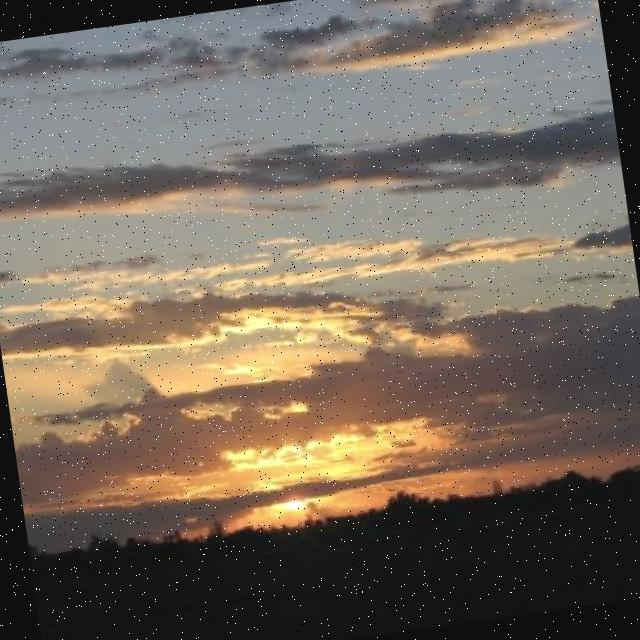Ac: (1, 53, 640, 544)
